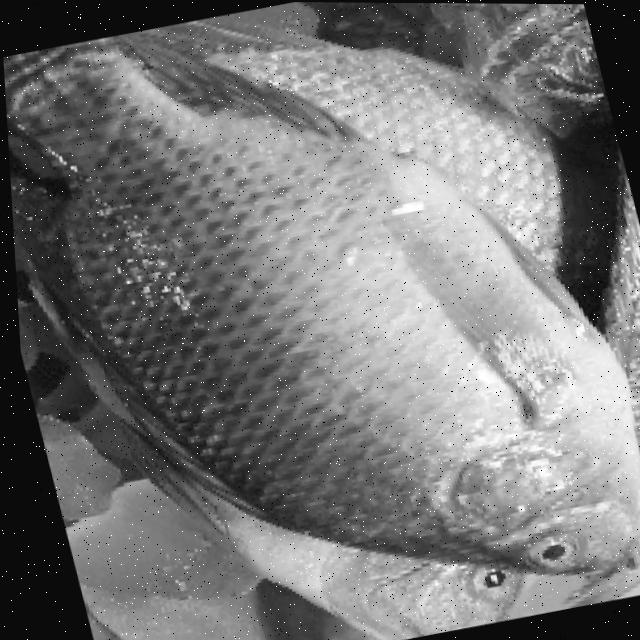Fresh: (51, 65, 640, 640)
